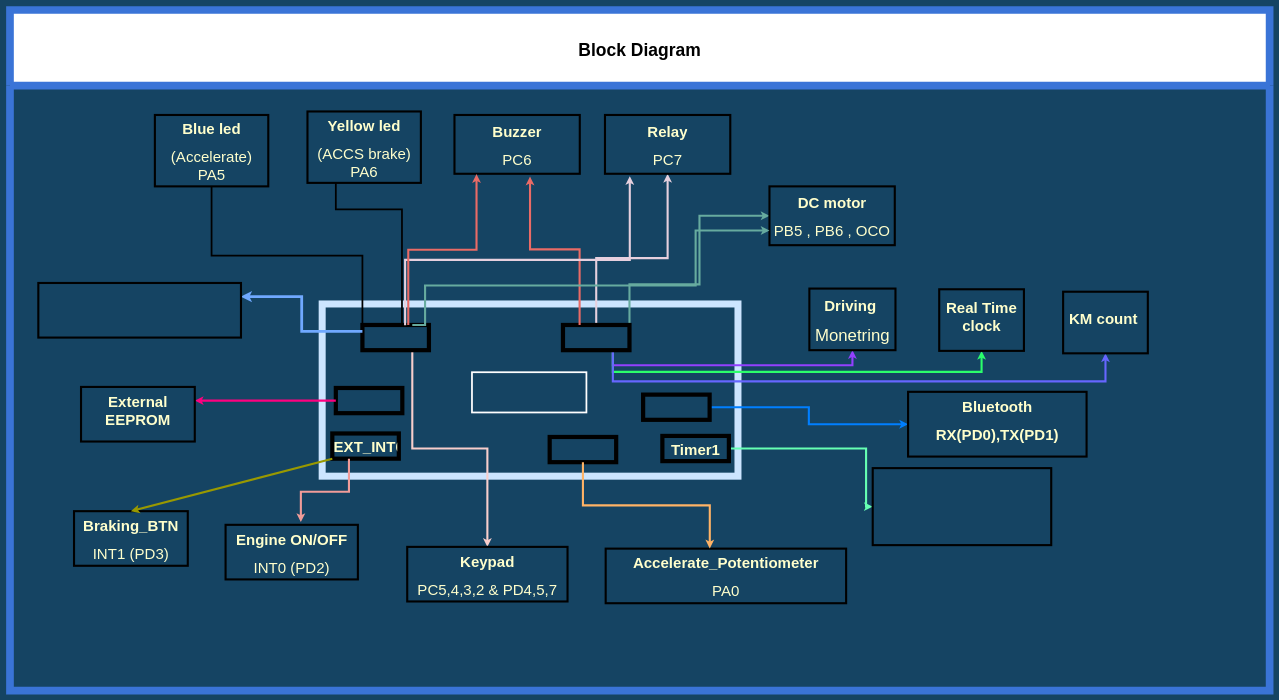
This 1279x700 diagram has some shape labels left out. The centre of each missing label's shape, as x and y in pixels:
"ADC" goes at [582,449].
"DIO" goes at [395,337].
"I2C" goes at [369,400].
"LCD PA3,PA2,PB0,PB1,PB2,PB4" goes at [139,310].
"MCU" goes at [529,392].
"Timer0" goes at [596,337].
"UART" goes at [676,407].
"Ultrasonic capture unit PD6(ICP1)" goes at [962,506].
